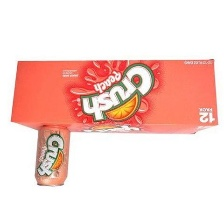can: (28, 121, 75, 191)
